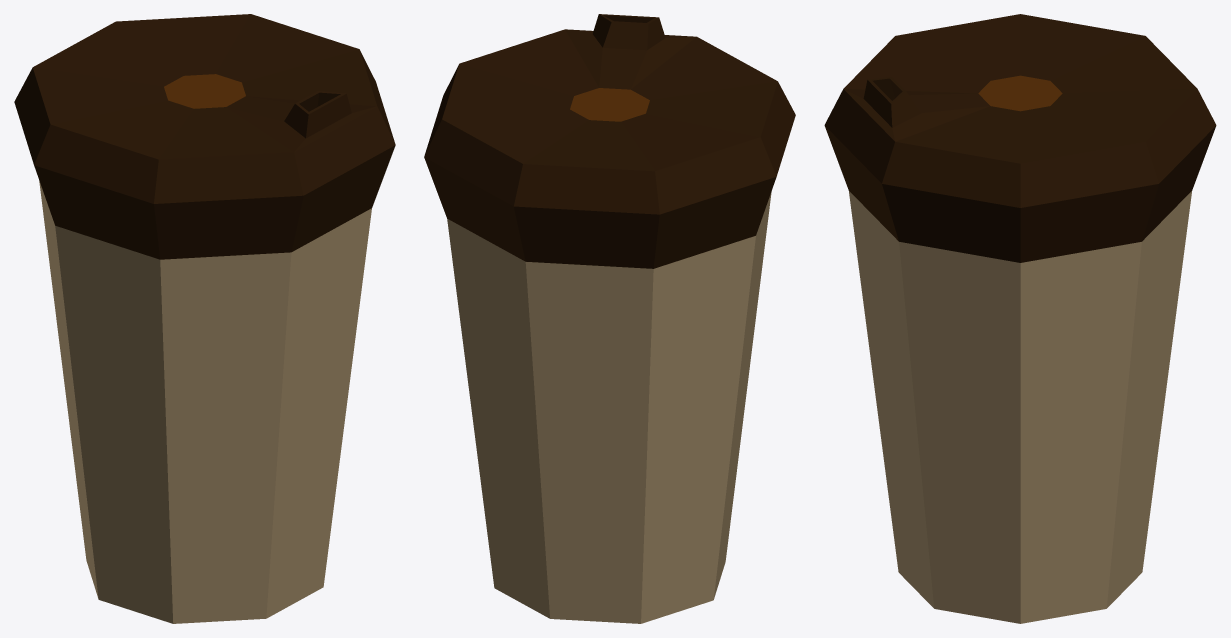
The model's file is Coffee.fbx.
The picture shows the model from 3 angles, left to right: view 1: azimuth 30°, elevation 25°; view 2: azimuth 150°, elevation 25°; view 3: azimuth 270°, elevation 25°; orthographic projection. The views are drawn at different scales.
Parts seen in each view (by area): view 1: Cylinder.012; view 2: Cylinder.012; view 3: Cylinder.012.
Part boxes in pixels (bbox=[...]): Cylinder.012: bbox=[14, 14, 395, 623]; Cylinder.012: bbox=[424, 14, 795, 623]; Cylinder.012: bbox=[824, 14, 1216, 623].
Bounding box in the file's own units: 39.28 × 56.15 × 39.28.
